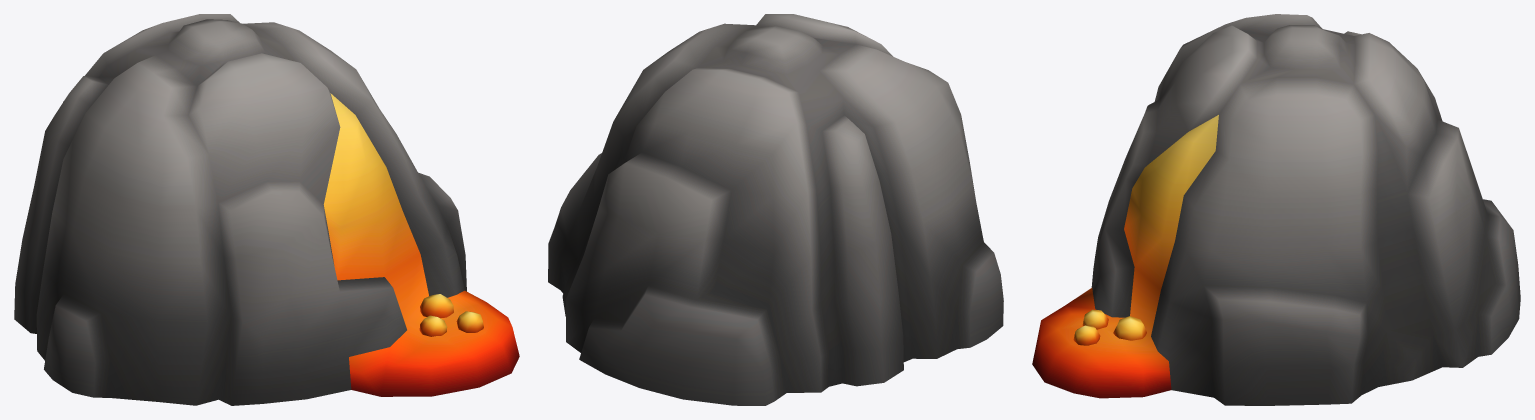
File: m_Rock05_A.fbx
3 renders of one model, left to right at view 1: azimuth 30°, elevation 25°; view 2: azimuth 150°, elevation 25°; view 3: azimuth 270°, elevation 25°, orthographic. The views are drawn at different scales.
Parts seen in each view (by area): view 1: m_Rock05_A; view 2: m_Rock05_A; view 3: m_Rock05_A.
Part boxes in pixels (box(x1,y1,x2,y2)): m_Rock05_A: box(14, 14, 519, 405); m_Rock05_A: box(548, 14, 1003, 405); m_Rock05_A: box(1032, 14, 1520, 405).
Bounding box in the file's own units: 630 × 424 × 690.
